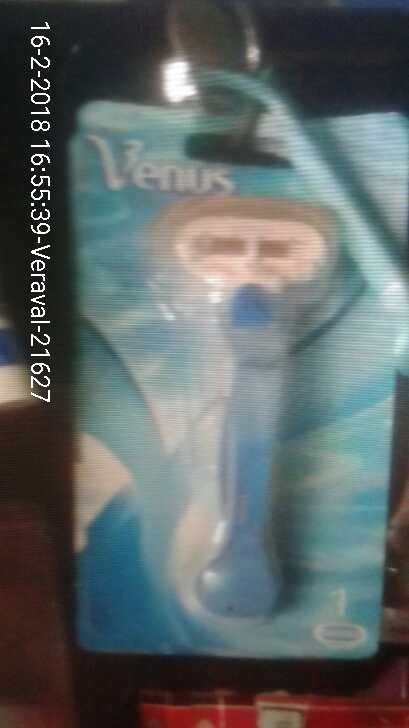venus: (150, 172, 335, 629)
